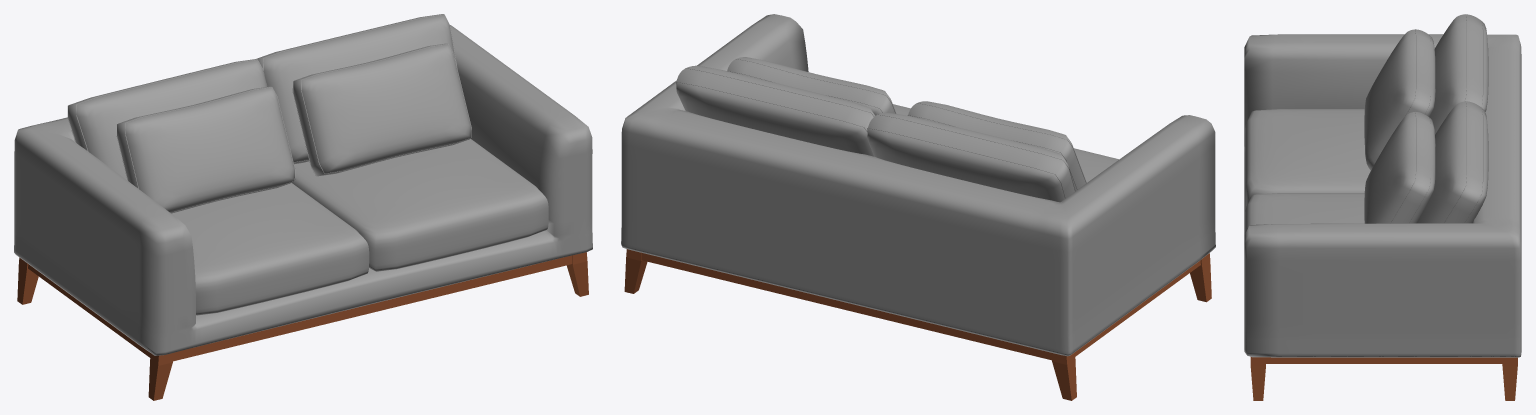
The model's file is sim_loveseat.glb.
3 renders of one model, left to right at view 1: azimuth 30°, elevation 25°; view 2: azimuth 150°, elevation 25°; view 3: azimuth 270°, elevation 25°, orthographic. The views are drawn at different scales.
Parts seen in each view (by area): view 1: Sim Loveseat; view 2: Sim Loveseat; view 3: Sim Loveseat.
Part boxes in pixels (x1,y1,x2,y2): Sim Loveseat: (14,14,592,400); Sim Loveseat: (621,14,1215,400); Sim Loveseat: (1244,14,1521,400).
Bounding box in the file's own units: 1.81 × 0.83 × 1.04.
1 material, 1 textured.
